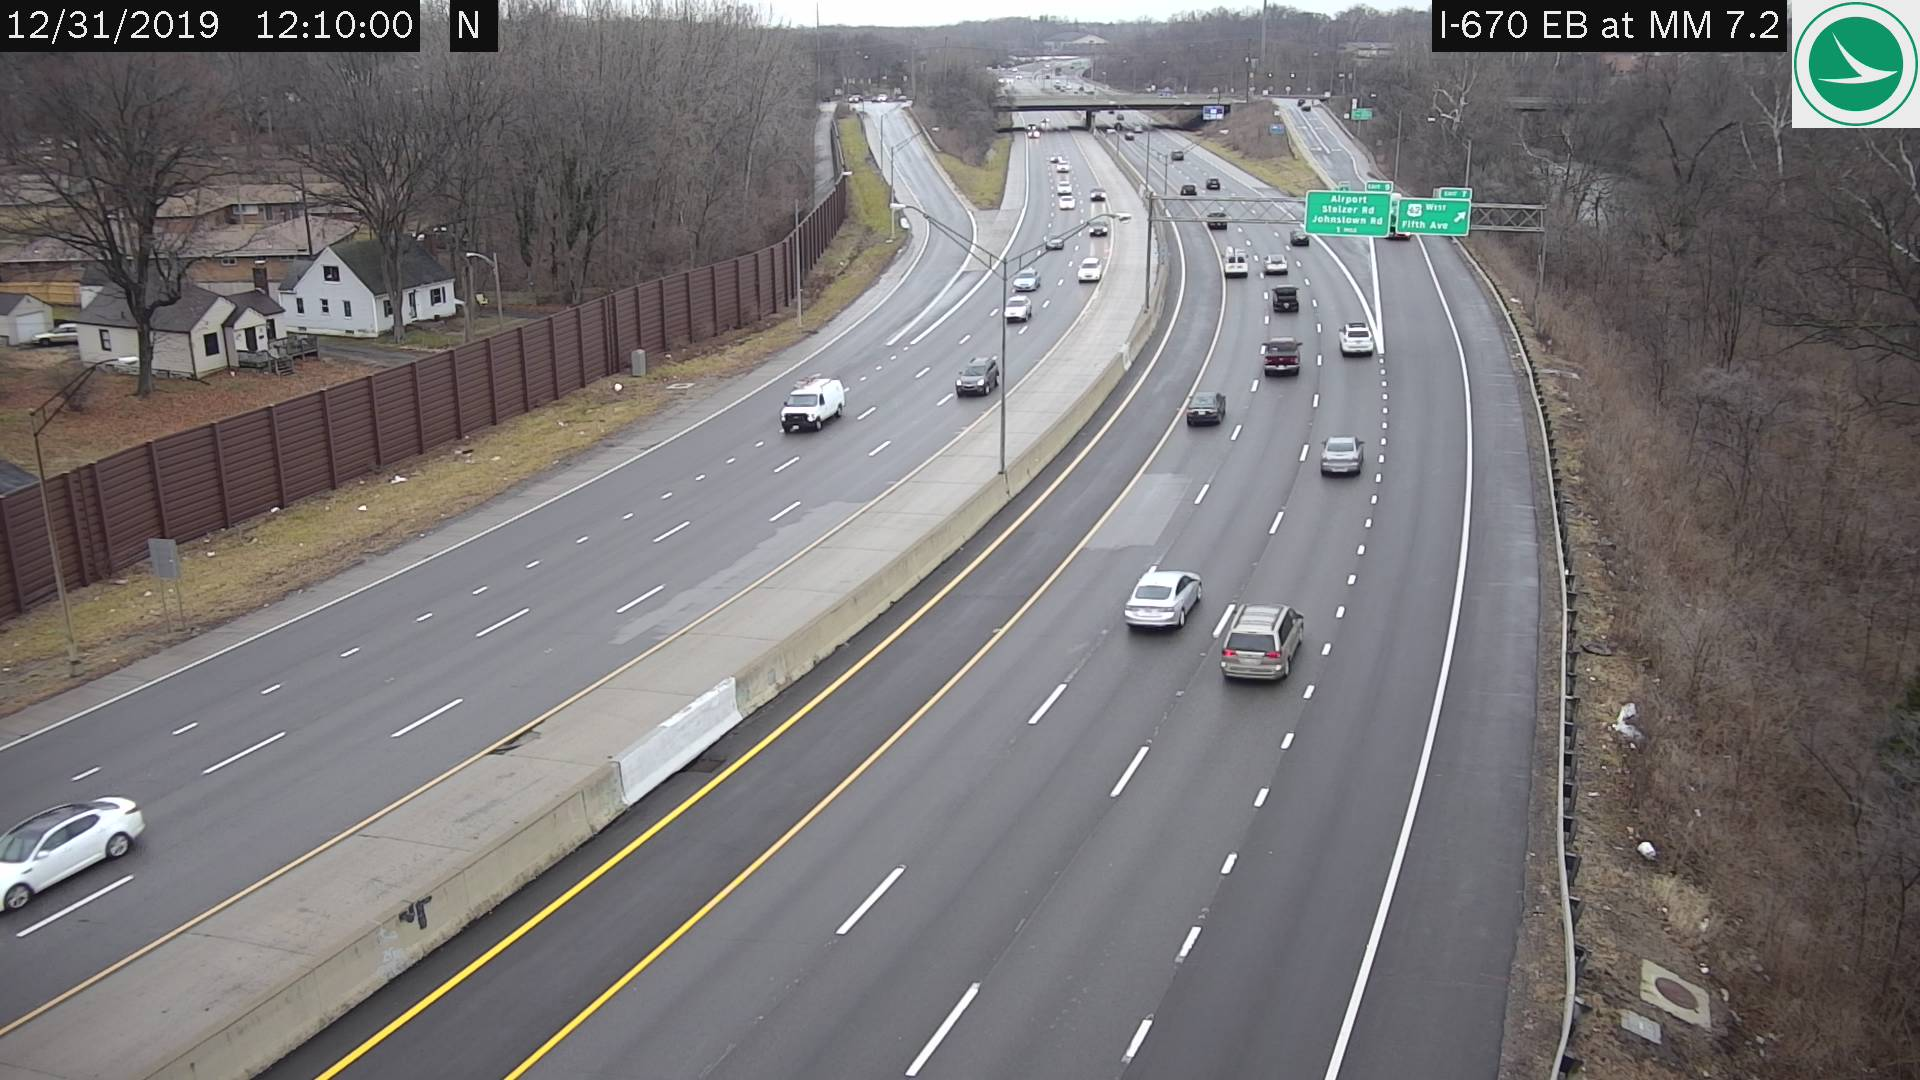car: (7, 796, 142, 905), (1222, 600, 1305, 684), (1126, 572, 1203, 632), (778, 376, 843, 433), (1323, 436, 1366, 476), (955, 357, 997, 396), (1261, 336, 1302, 375), (1185, 389, 1225, 426), (1004, 293, 1031, 326), (1342, 320, 1370, 352), (1011, 265, 1038, 295), (1222, 247, 1247, 277), (1076, 255, 1101, 282), (1271, 285, 1296, 310), (1266, 252, 1286, 276), (1207, 212, 1226, 229), (1291, 227, 1308, 245), (1046, 232, 1063, 251), (1088, 185, 1106, 200), (1088, 220, 1106, 235), (1058, 195, 1076, 210), (1180, 183, 1197, 198), (1207, 175, 1218, 190)
